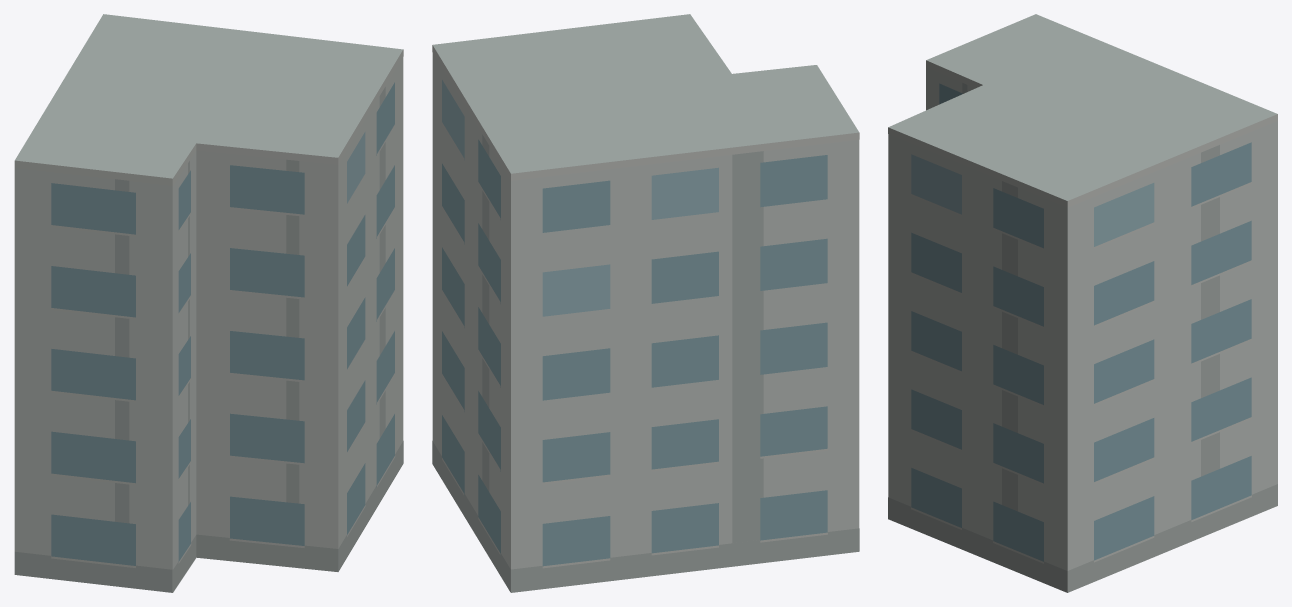
Rendered from survey-upis-32563160.glb.
3 renders of one model, left to right at view 1: azimuth 30°, elevation 25°; view 2: azimuth 150°, elevation 25°; view 3: azimuth 270°, elevation 25°, orthographic. The views are drawn at different scales.
Visible parts, largest first — view 1: survey-upis-32563160.tmp; view 2: survey-upis-32563160.tmp; view 3: survey-upis-32563160.tmp.
Boxes of the visible parts, box(x1,y1,x2,y2) form: survey-upis-32563160.tmp: box(14, 14, 403, 592); survey-upis-32563160.tmp: box(432, 14, 859, 592); survey-upis-32563160.tmp: box(888, 14, 1277, 592).
Bounding box in the file's own units: 14.44 × 14.1 × 12.72.
